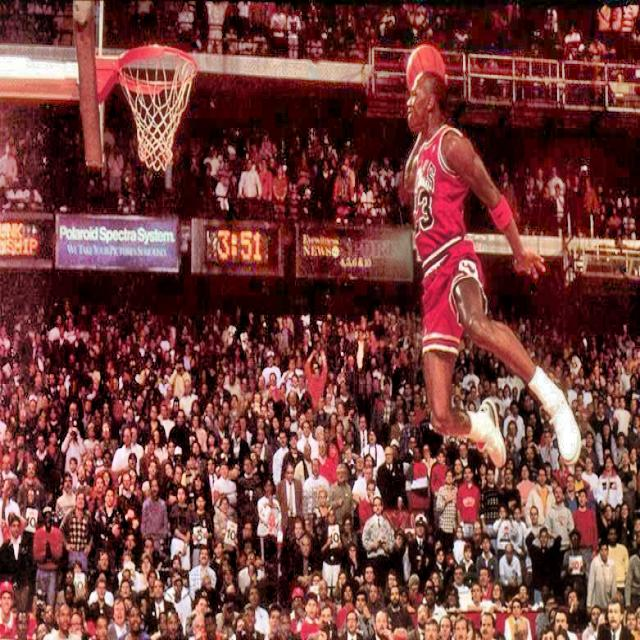board: (402, 39, 448, 101)
rim: (117, 44, 198, 171)
